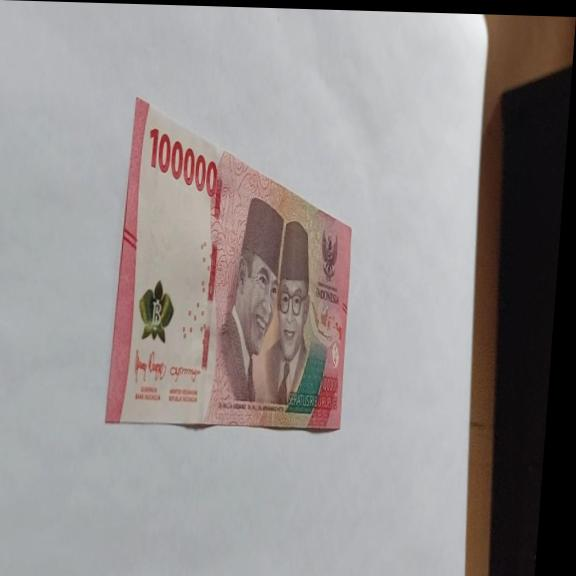Kertas: (105, 95, 365, 434), (144, 126, 221, 199)
